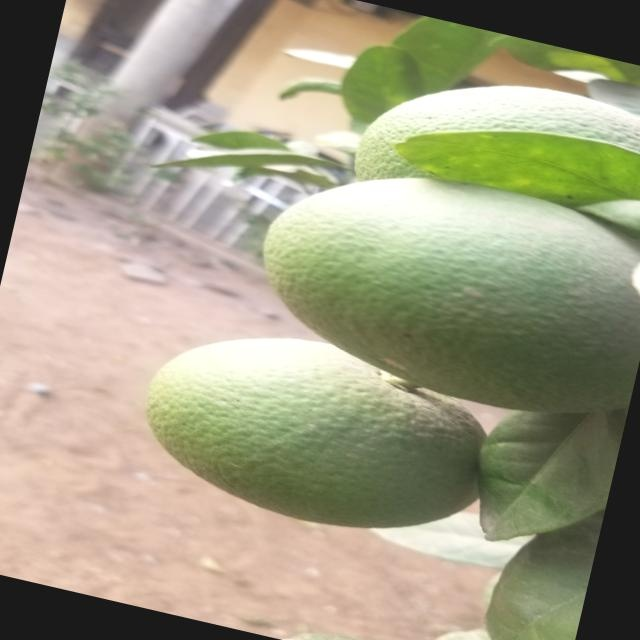agrume: (238, 136, 640, 428), (135, 313, 502, 557), (356, 49, 640, 245)
